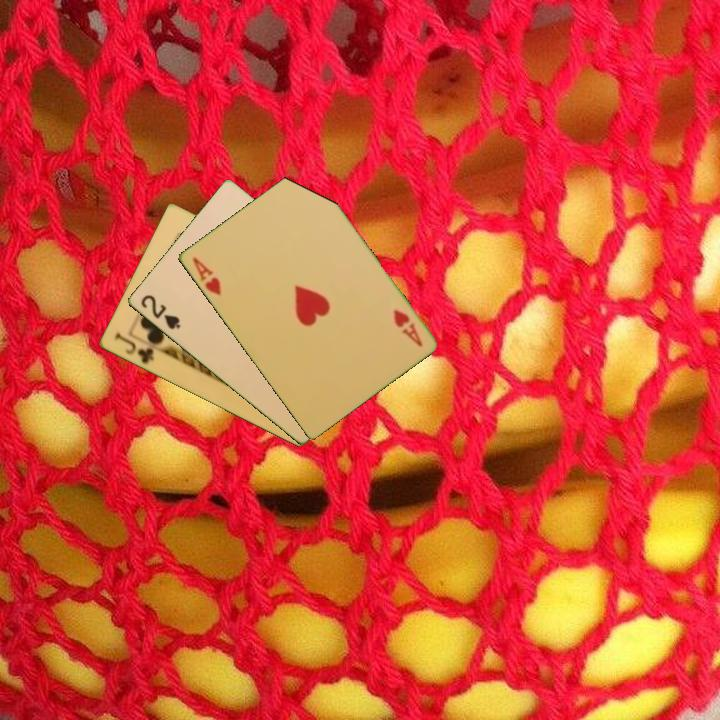2s: (137, 291, 183, 332)
Ah: (188, 253, 224, 298), (389, 306, 425, 350)
Jc: (111, 330, 157, 366)
